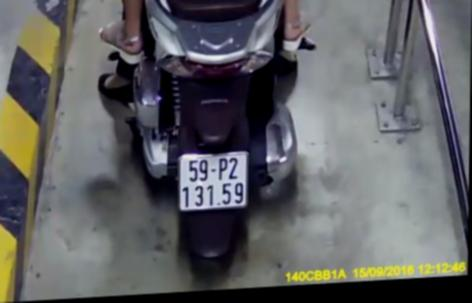License_Plate: (168, 148, 255, 216)
